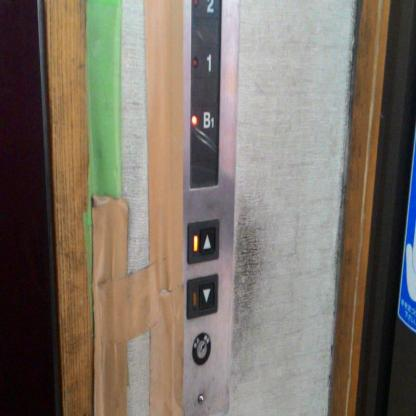down: (184, 270, 219, 320)
keyhole: (192, 332, 211, 365)
up: (186, 216, 220, 265)
